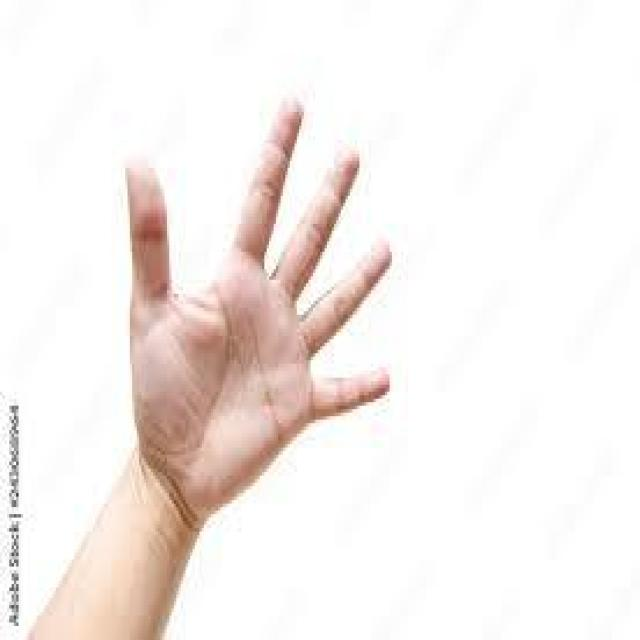paper: (98, 72, 424, 550)
